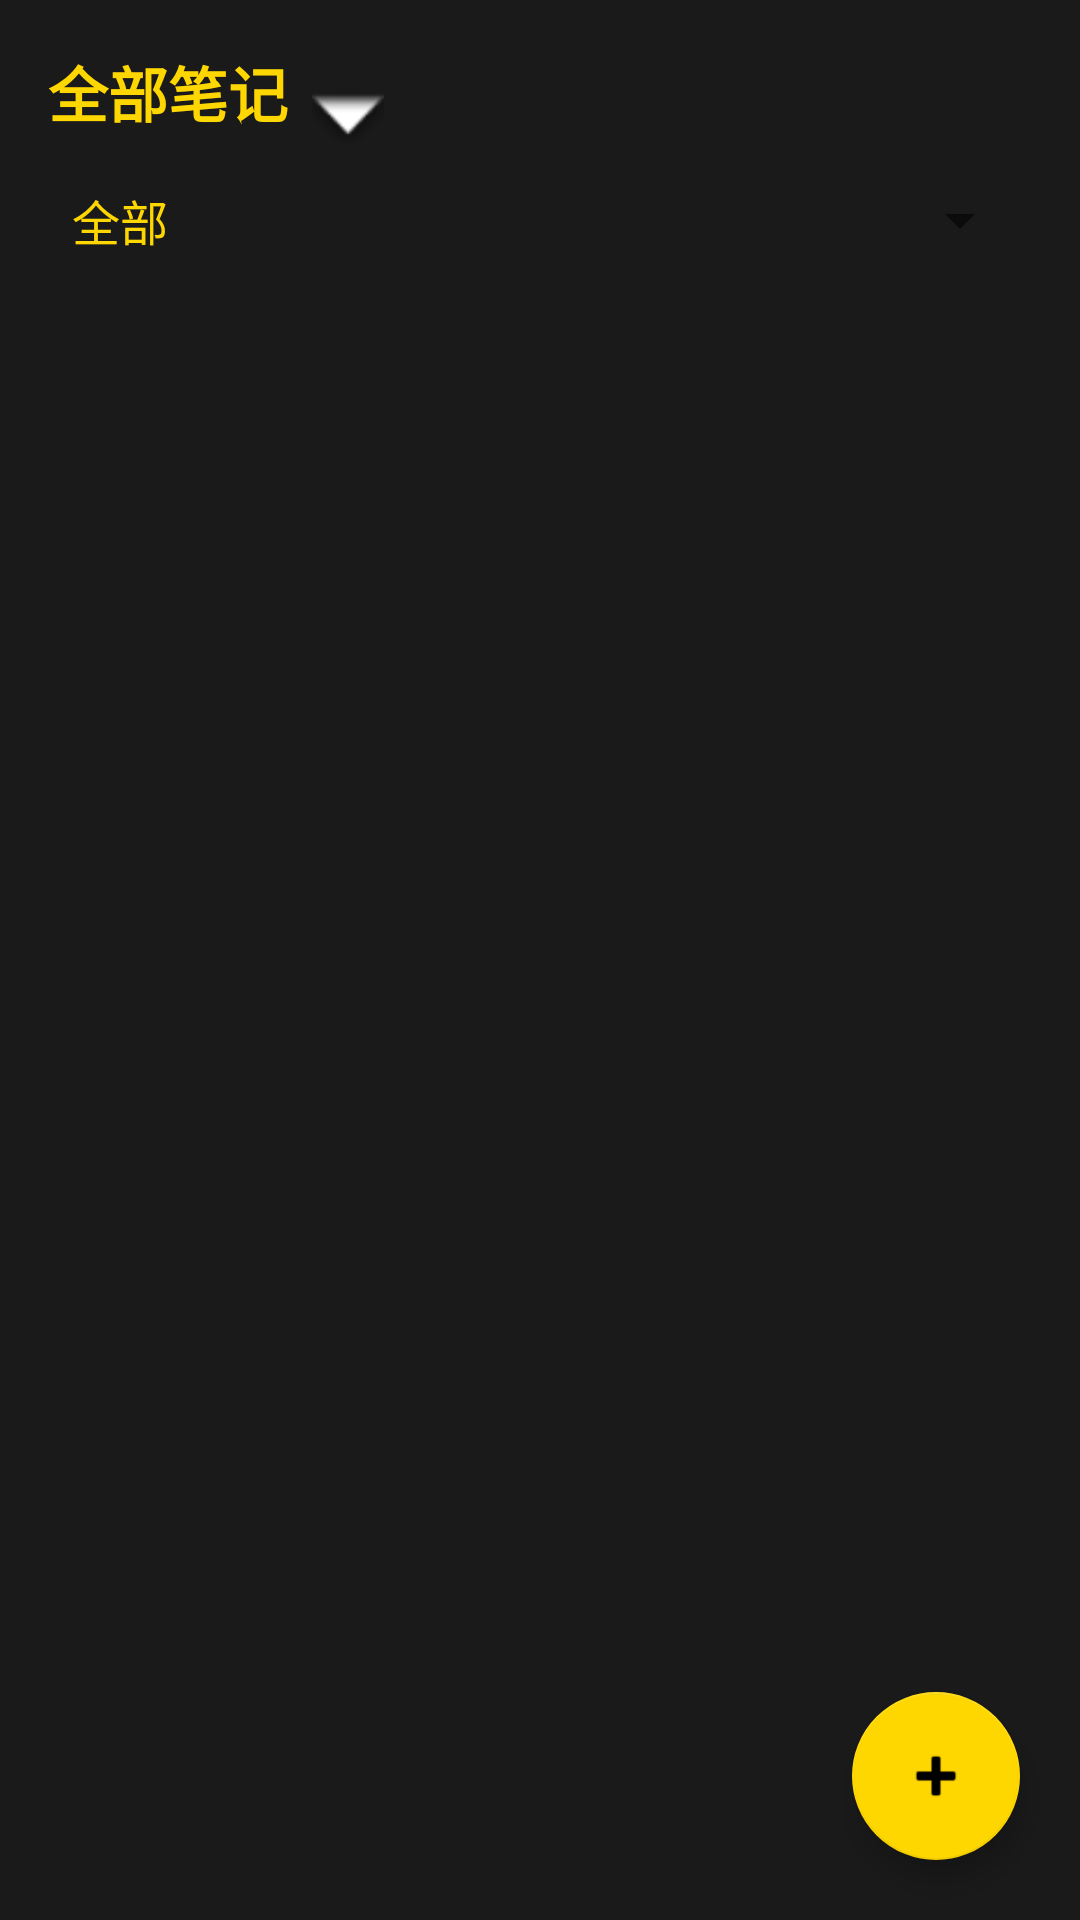

Screen size 1080px x 1920px. Icon name, then its box in pixels as (x1=x1, y1=y1, x2=x2, y2=y2):
arrow down float: (x1=313, y1=96, x2=383, y2=134)
添加笔记: (x1=852, y1=1692, x2=1020, y2=1860)
